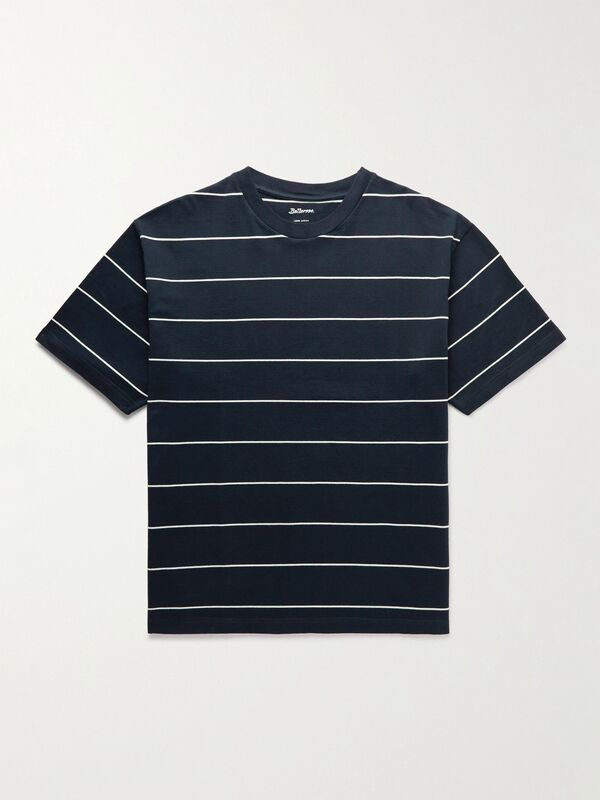tshirt: (32, 160, 570, 642)
